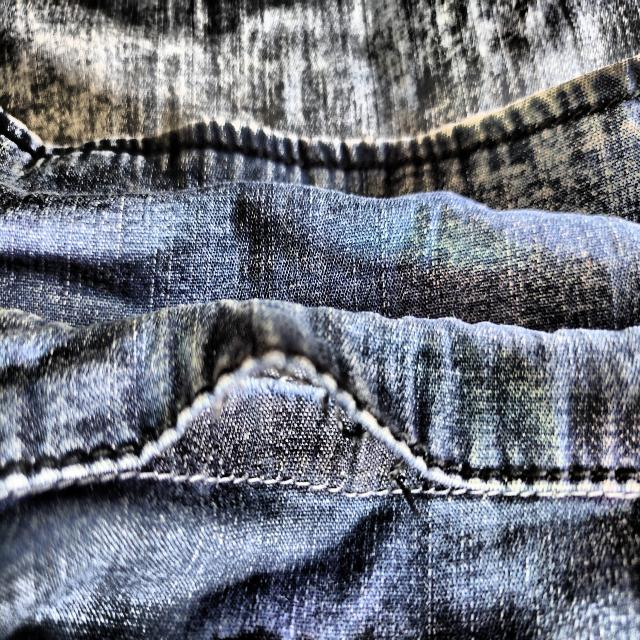seam: (124, 348, 462, 514)
